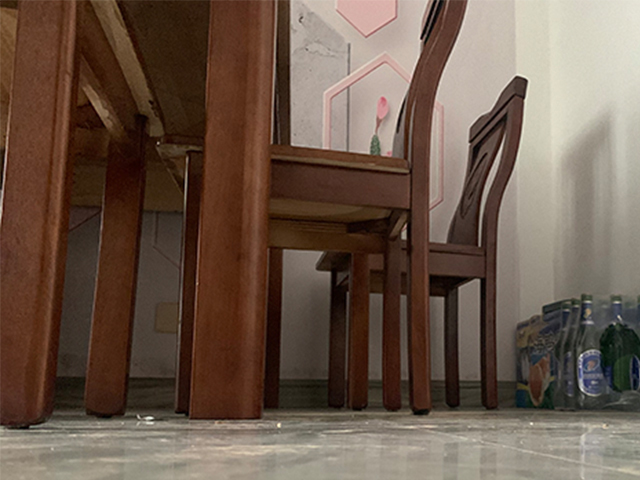stool: (152, 1, 470, 416), (315, 75, 529, 412)
